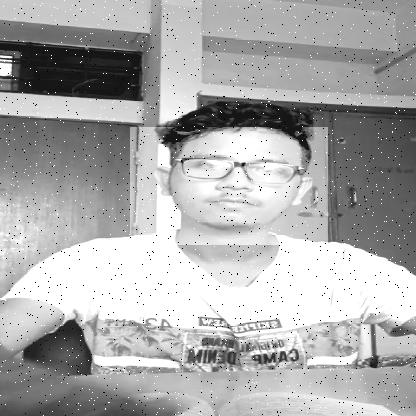Normal: (130, 127, 328, 245)
